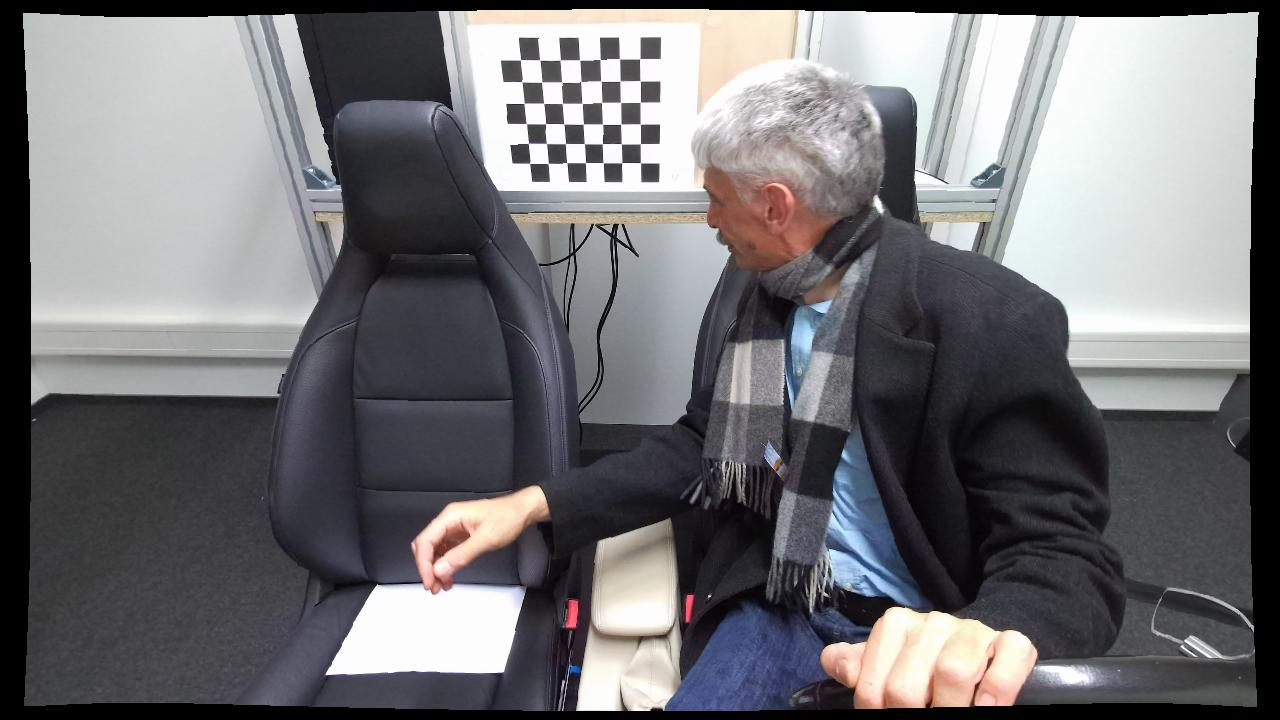Distracted: (686, 56, 1095, 717)
